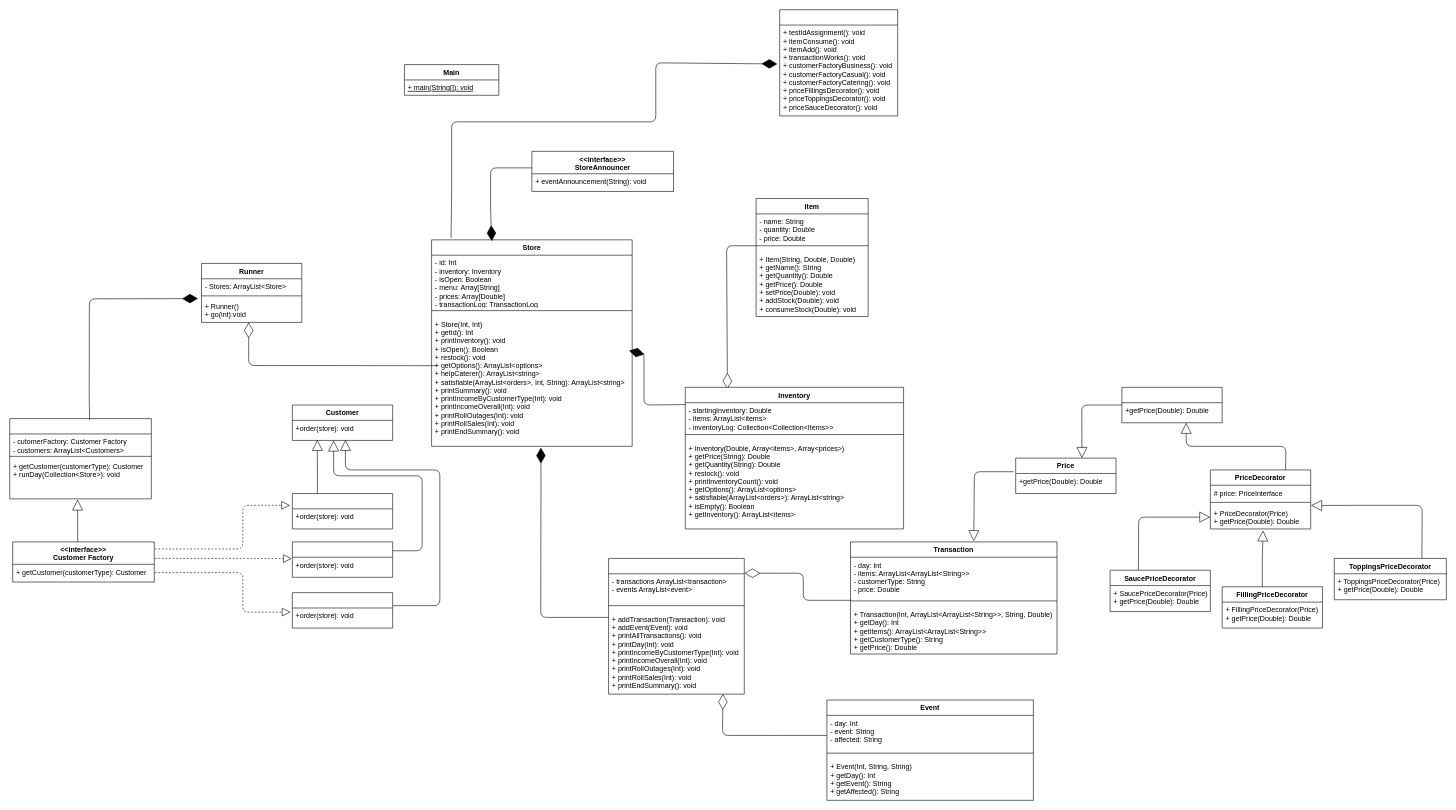
Some shapes in this 1456 by 810 pixel diagram are drawn without their labels. The box of each missing label's shape, as (x1, y1, x2, y2) in pixels:
Business: (292, 493, 393, 529)
Casual: (292, 541, 393, 577)
Catering: (292, 592, 393, 628)
Day Runner: (9, 418, 151, 499)
MyUnitTest: (779, 9, 898, 116)
PriceInterface: (1121, 387, 1222, 423)
TransactionLog: (608, 558, 744, 694)
